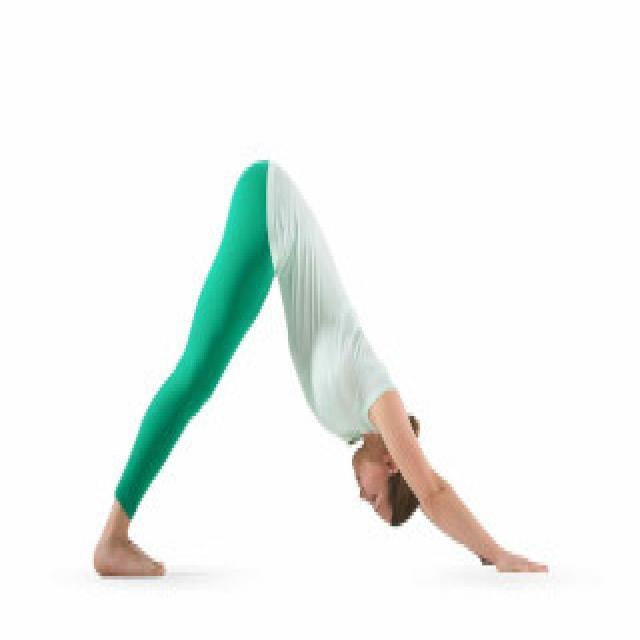yoga-pose downward: (91, 155, 550, 578)
